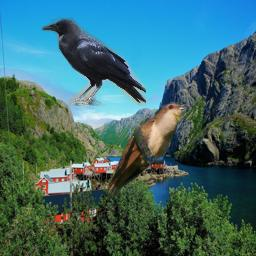Crow: (41, 17, 146, 106)
Cuckoo: (104, 102, 188, 201)
